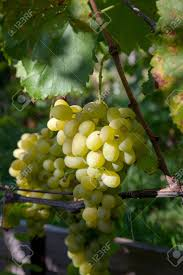grapes: (53, 98, 150, 275), (8, 132, 68, 195)
